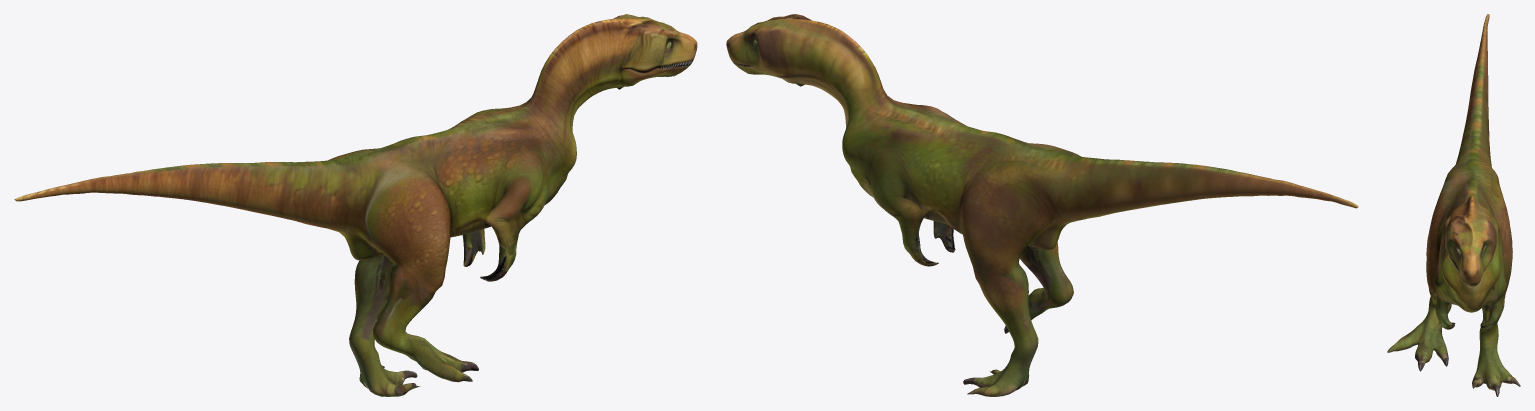
The model's file is 12 Chilesaurus 3D.glb.
3 renders of one model, left to right at view 1: azimuth 30°, elevation 25°; view 2: azimuth 150°, elevation 25°; view 3: azimuth 270°, elevation 25°, orthographic. The views are drawn at different scales.
Visible parts, largest first — view 1: Mesh0; view 2: Mesh0; view 3: Mesh0.
Boxes of the visible parts, bbox=[...] form: Mesh0: bbox=[14, 14, 697, 396]; Mesh0: bbox=[726, 14, 1358, 396]; Mesh0: bbox=[1387, 14, 1520, 396].
Bounding box in the file's own units: 18.44 × 8.61 × 3.97.
1 material, 1 textured.
